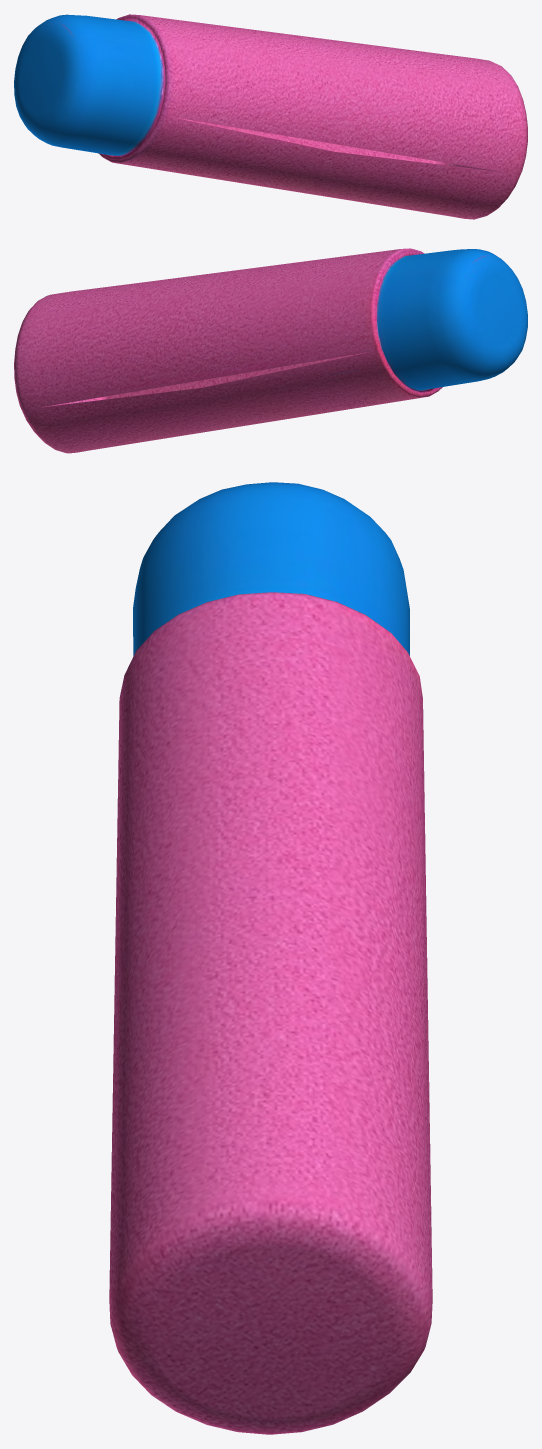
The model's file is Weapon_Bullet.glb.
3 views of the same model, one above another, from view 1: azimuth 30°, elevation 25°; view 2: azimuth 150°, elevation 25°; view 3: azimuth 270°, elevation 25° (orthographic). The views are drawn at different scales.
Visible parts, largest first — view 1: tripo_node_13558be3-432f-48bb-9640-f85335a88f44; view 2: tripo_node_13558be3-432f-48bb-9640-f85335a88f44; view 3: tripo_node_13558be3-432f-48bb-9640-f85335a88f44.
Boxes of the visible parts, bbox=[...] form: tripo_node_13558be3-432f-48bb-9640-f85335a88f44: bbox=[14, 14, 527, 219]; tripo_node_13558be3-432f-48bb-9640-f85335a88f44: bbox=[14, 248, 527, 453]; tripo_node_13558be3-432f-48bb-9640-f85335a88f44: bbox=[109, 482, 432, 1434].
Size of the model in its own units: 0.9995 by 0.5728 by 0.2935.
Materials: 1 (1 with a texture image).
